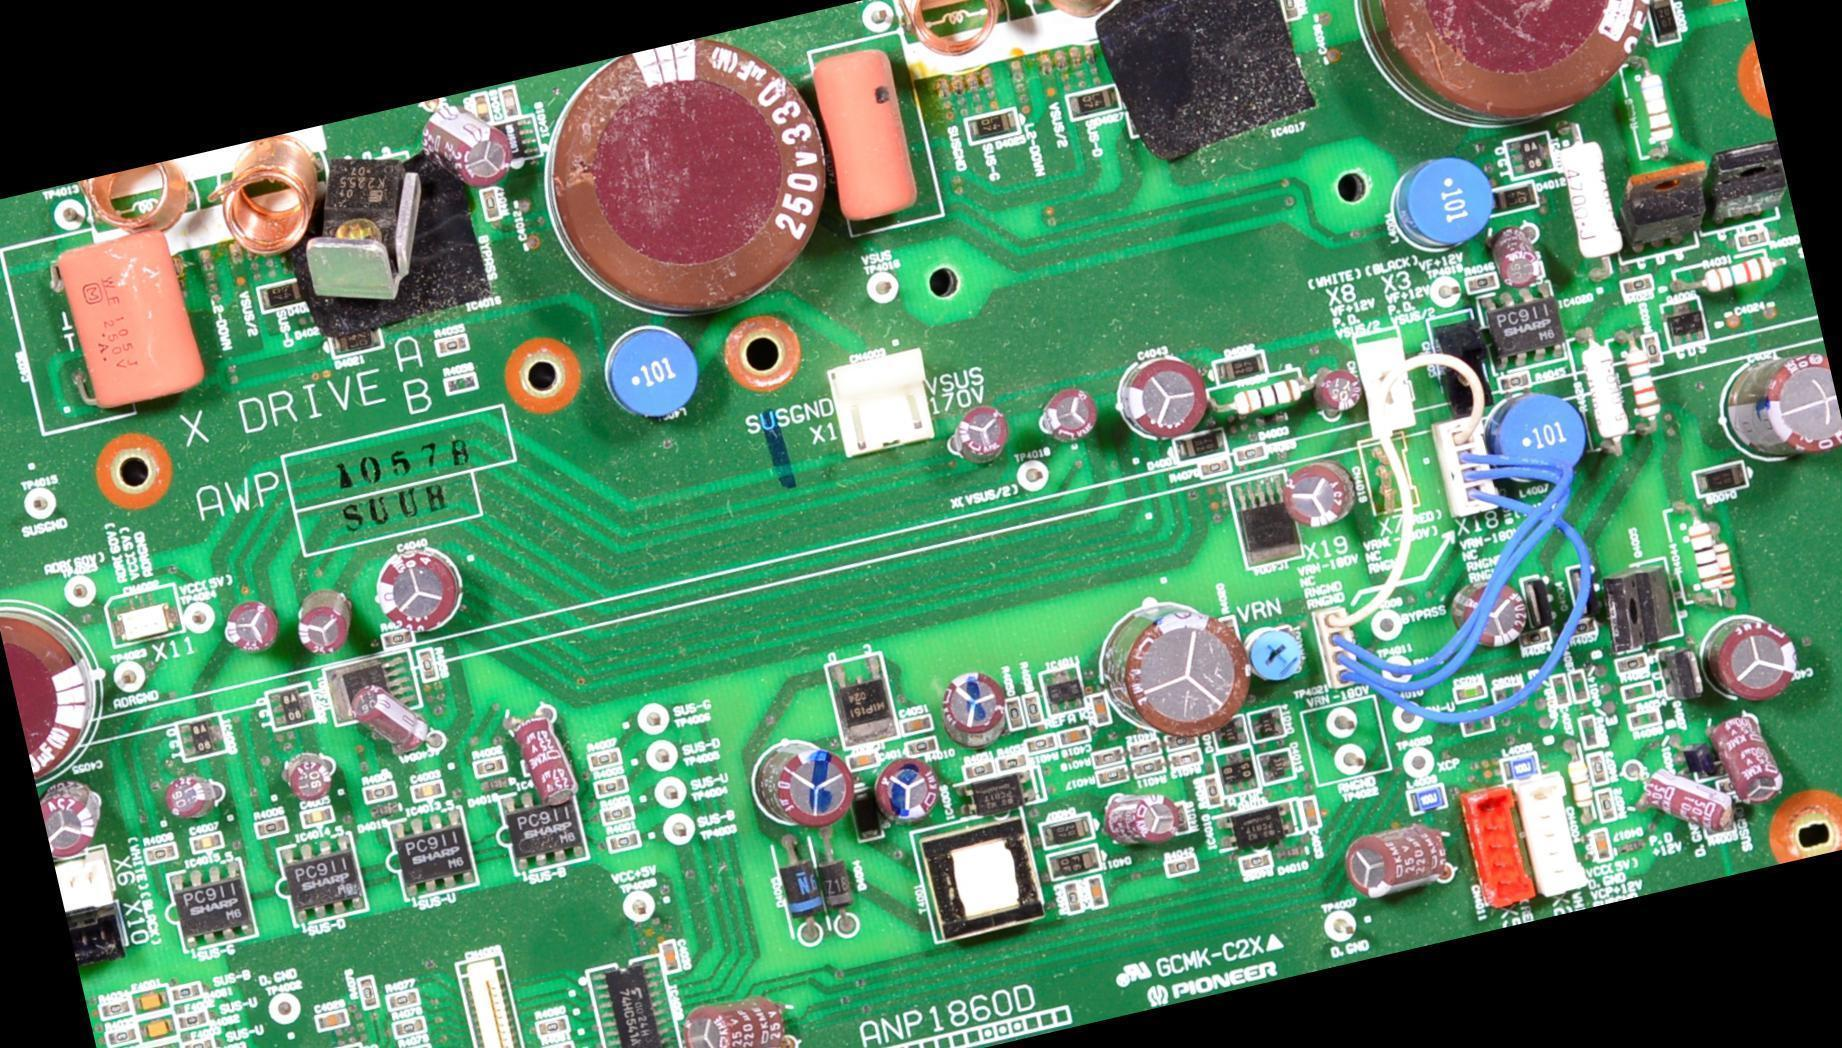Capacitor: (529, 15, 861, 347), (1350, 0, 1663, 147), (33, 226, 200, 432), (1104, 598, 1259, 742), (0, 602, 120, 787), (1730, 344, 1841, 471), (1694, 608, 1801, 708), (366, 541, 468, 637), (1115, 351, 1211, 448), (1643, 756, 1747, 845), (1344, 818, 1451, 900), (761, 738, 856, 829), (425, 97, 518, 189), (1711, 708, 1783, 802), (507, 706, 576, 803), (353, 677, 431, 759), (37, 773, 111, 858), (683, 991, 793, 1047), (1454, 575, 1531, 650), (1098, 781, 1180, 852), (1279, 457, 1356, 532), (938, 668, 1011, 744), (866, 754, 946, 822), (291, 589, 362, 660), (1489, 221, 1554, 291), (946, 406, 1014, 466), (1039, 382, 1101, 441), (162, 766, 227, 822), (222, 600, 282, 658), (1316, 364, 1370, 414), (277, 754, 333, 803), (1585, 823, 1620, 868), (892, 709, 936, 738), (128, 984, 171, 1013), (1080, 688, 1113, 727), (138, 1010, 177, 1041), (657, 935, 686, 975), (1296, 792, 1325, 831), (845, 747, 886, 774), (408, 776, 446, 802), (303, 802, 336, 831), (469, 87, 497, 121), (188, 828, 230, 851), (312, 1005, 348, 1031), (1058, 723, 1091, 749), (499, 84, 524, 118), (1087, 875, 1106, 905), (142, 1040, 186, 1047)
IC: (294, 158, 514, 348), (1088, 0, 1333, 165), (583, 947, 688, 1047), (381, 802, 480, 903), (496, 777, 591, 873), (274, 831, 368, 926), (316, 647, 426, 726), (1227, 465, 1308, 571), (161, 857, 251, 948), (824, 648, 898, 743), (1212, 799, 1310, 861), (260, 677, 321, 730), (174, 714, 236, 762), (1499, 132, 1560, 179), (496, 114, 543, 159)
Resistor: (1617, 336, 1671, 432), (1671, 513, 1727, 605), (1693, 246, 1786, 297), (1216, 373, 1307, 422), (1698, 526, 1743, 598), (429, 325, 477, 360), (1085, 741, 1130, 771), (1169, 742, 1211, 773), (103, 1016, 146, 1047), (166, 975, 206, 1006), (1584, 747, 1616, 786), (441, 366, 481, 398), (1016, 687, 1047, 726), (1229, 439, 1269, 469), (1196, 772, 1225, 812), (1001, 694, 1030, 734), (1513, 625, 1557, 652), (1129, 750, 1170, 778), (1237, 849, 1279, 877), (581, 743, 624, 770), (92, 991, 133, 1019), (414, 645, 441, 685), (1590, 786, 1620, 822), (1094, 762, 1134, 788), (1559, 616, 1601, 640), (1122, 736, 1165, 759), (175, 1007, 217, 1031), (1061, 880, 1087, 920), (480, 184, 505, 224), (604, 824, 642, 850), (1464, 272, 1504, 296), (386, 986, 424, 1011), (1618, 275, 1656, 300), (252, 811, 290, 836), (353, 974, 381, 1009), (1161, 727, 1200, 751), (1194, 456, 1234, 480), (472, 752, 511, 776), (361, 781, 400, 805), (1497, 367, 1534, 391), (904, 734, 944, 757), (601, 802, 637, 826), (1732, 229, 1773, 251), (958, 756, 996, 779), (140, 839, 175, 865), (1022, 732, 1059, 754), (536, 1012, 573, 1035), (591, 775, 628, 797), (1615, 653, 1653, 675), (1168, 801, 1191, 836), (391, 1012, 425, 1035), (998, 747, 1029, 772), (1163, 853, 1197, 875), (1277, 0, 1307, 24), (181, 1029, 214, 1047), (541, 1039, 579, 1047), (398, 1042, 436, 1047)
